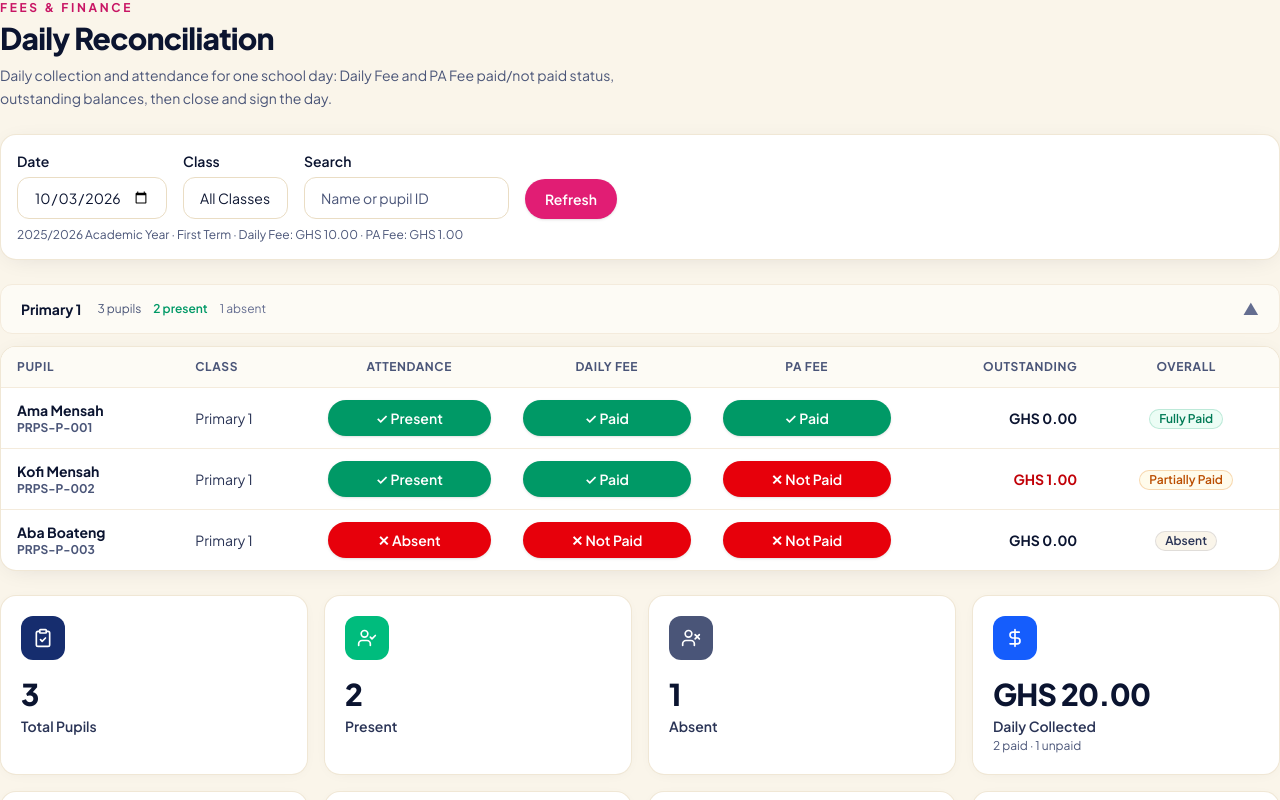
ReconciliationPage › updates summary totals live after a fee status toggle
Step 1. Click the button with aria-label "Mark Kofi Mensah pa fee paid" → (807, 478), box x1=723 y1=460 x2=891 y2=496
(page scrolled)
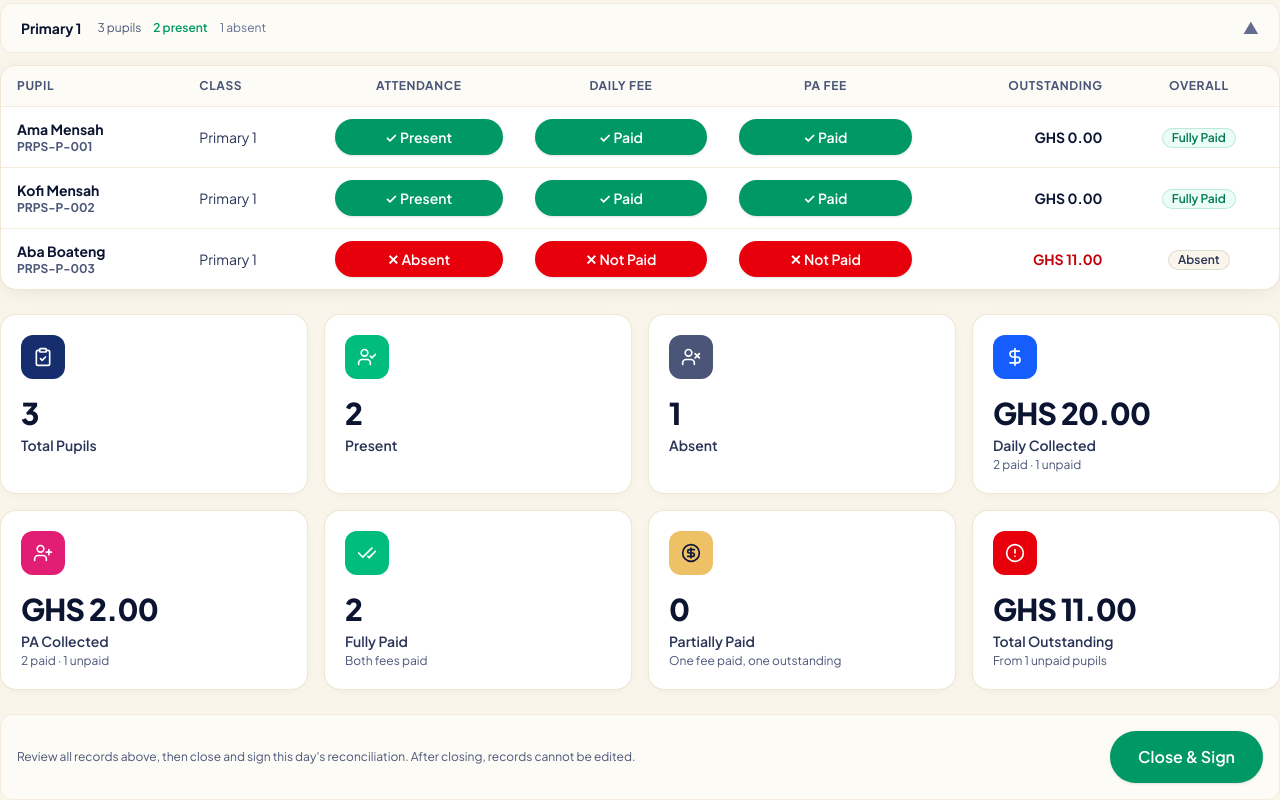
Now the text "GHS 11.00" in the row of "GHS 2.00" is shown, box x1=993 y1=590 x2=1136 y2=628
Now the text "From 1 unpaid pupils" is shown, box x1=993 y1=652 x2=1107 y2=668
Now the 2nd text "2" is shown, box x1=345 y1=590 x2=362 y2=628
